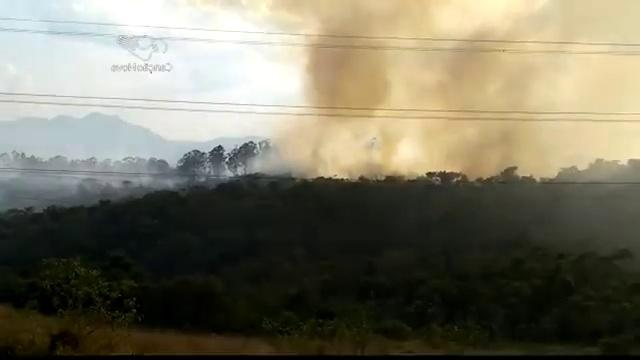smoke: (309, 49, 385, 111), (442, 55, 518, 106)
